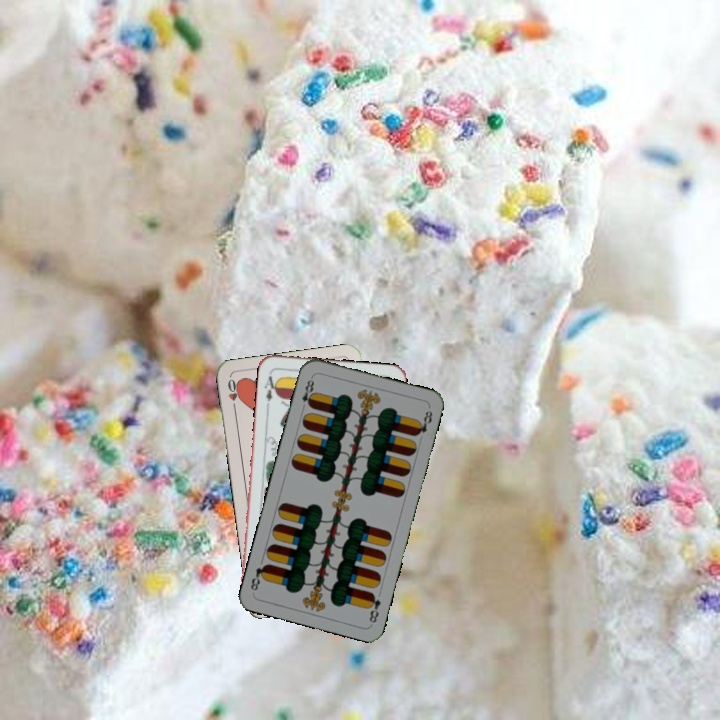E8: (298, 373, 317, 413), (364, 589, 383, 626)
EA: (260, 369, 280, 409)
HO: (223, 375, 242, 415)
